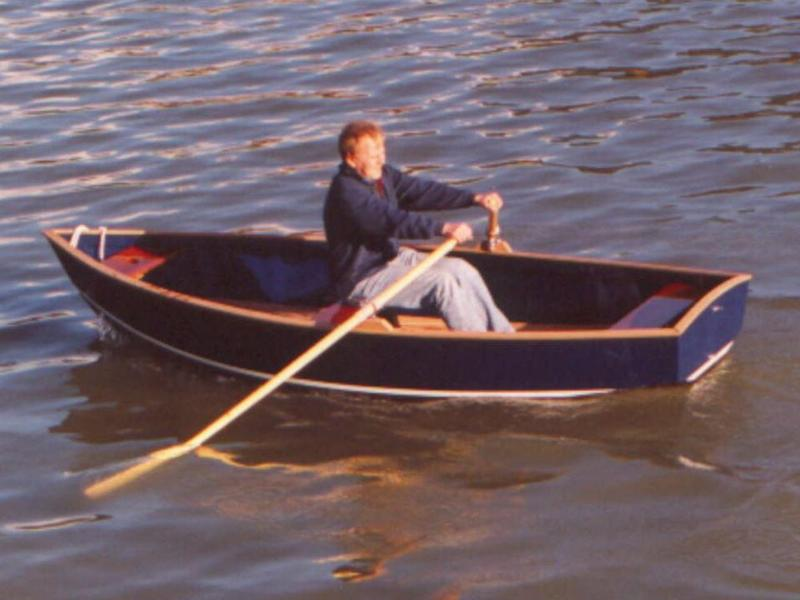person: (324, 121, 518, 335)
